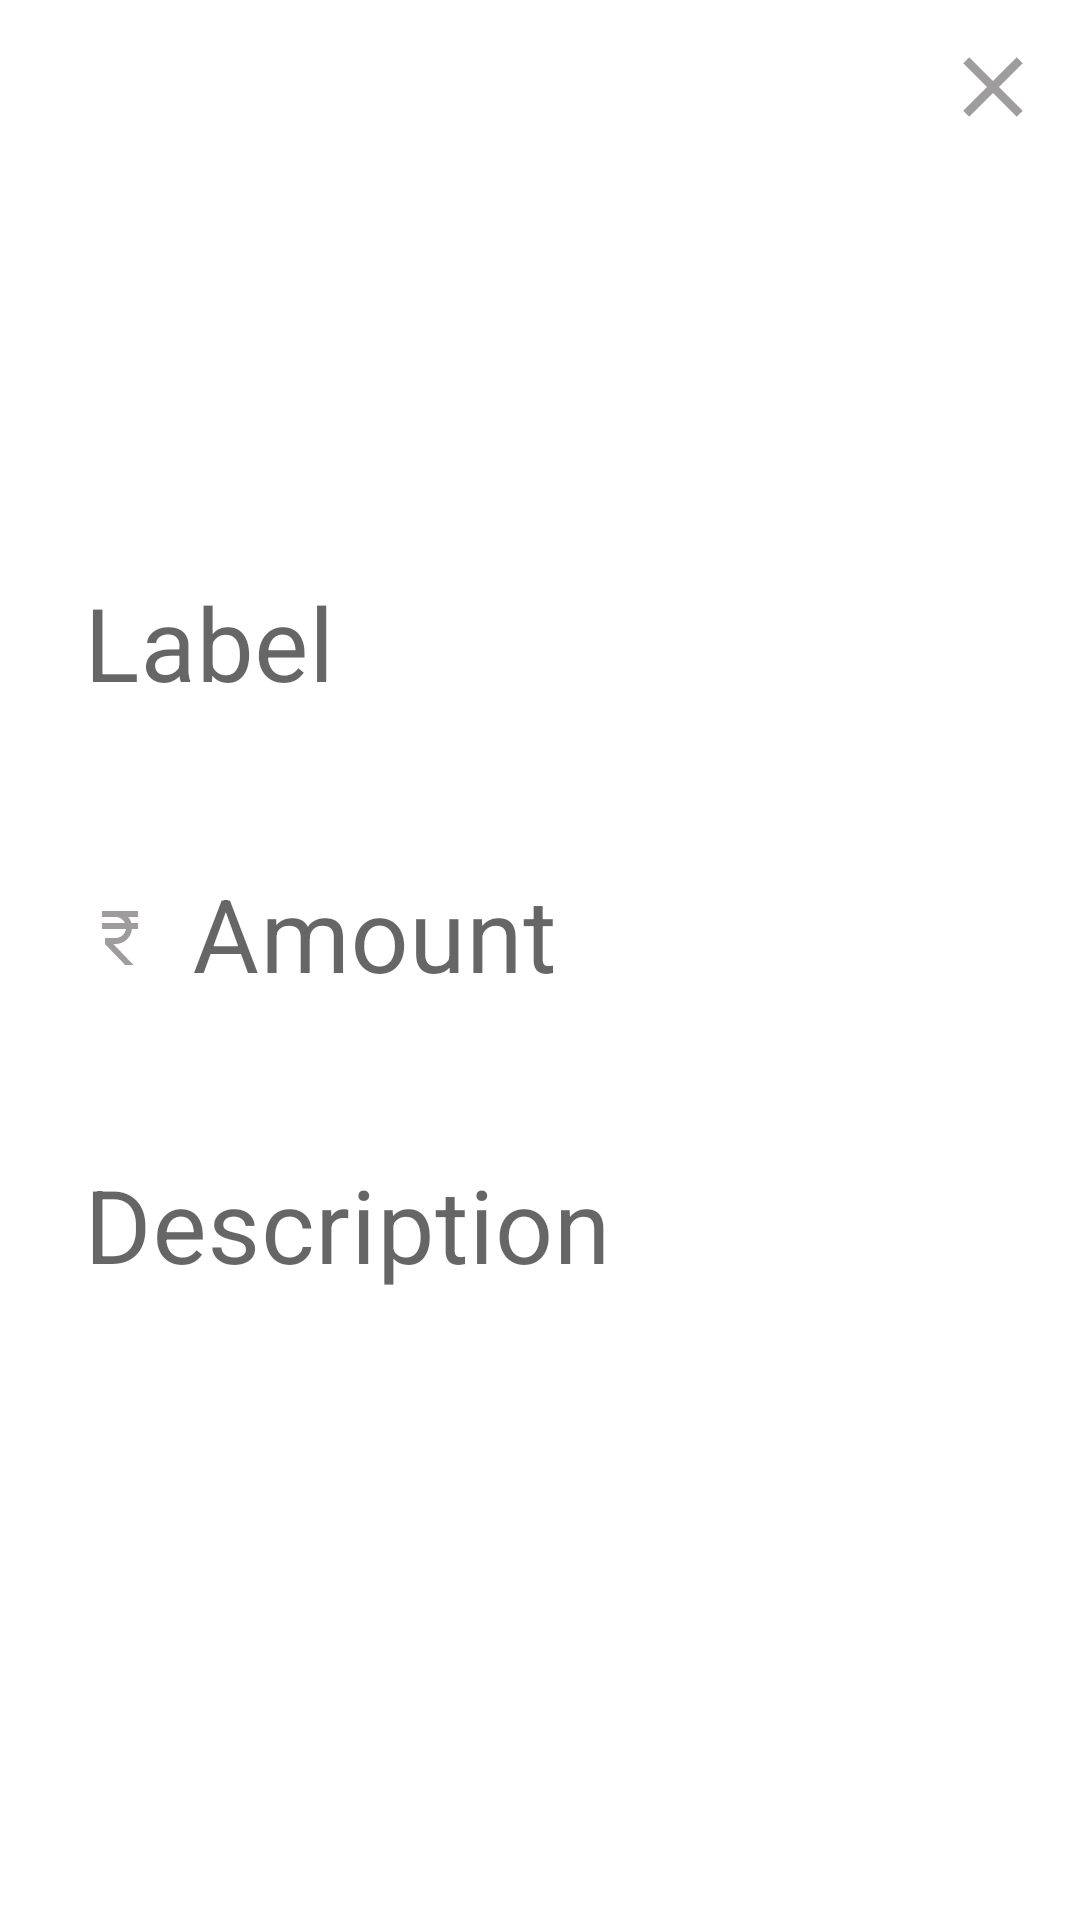

Named icons in this screenshot (1080px×1920px) and their bounding boxes, [x1,y1,x2,y2]:
close: [963,57,1023,117]
